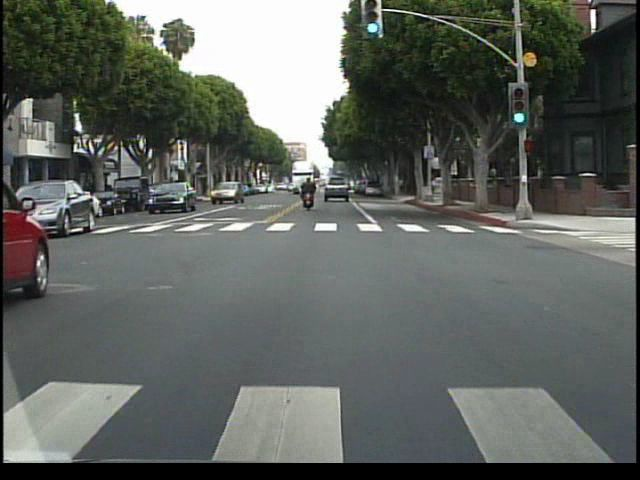person: (300, 175, 319, 215)
